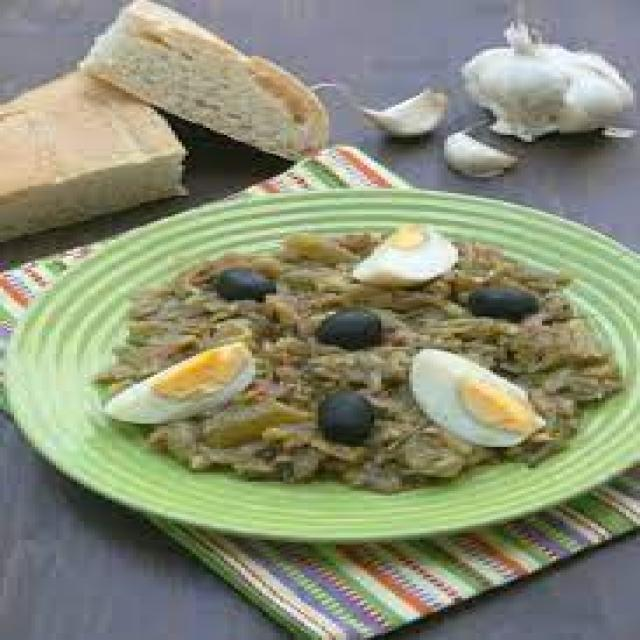Salade mechweya: (20, 185, 640, 551)
